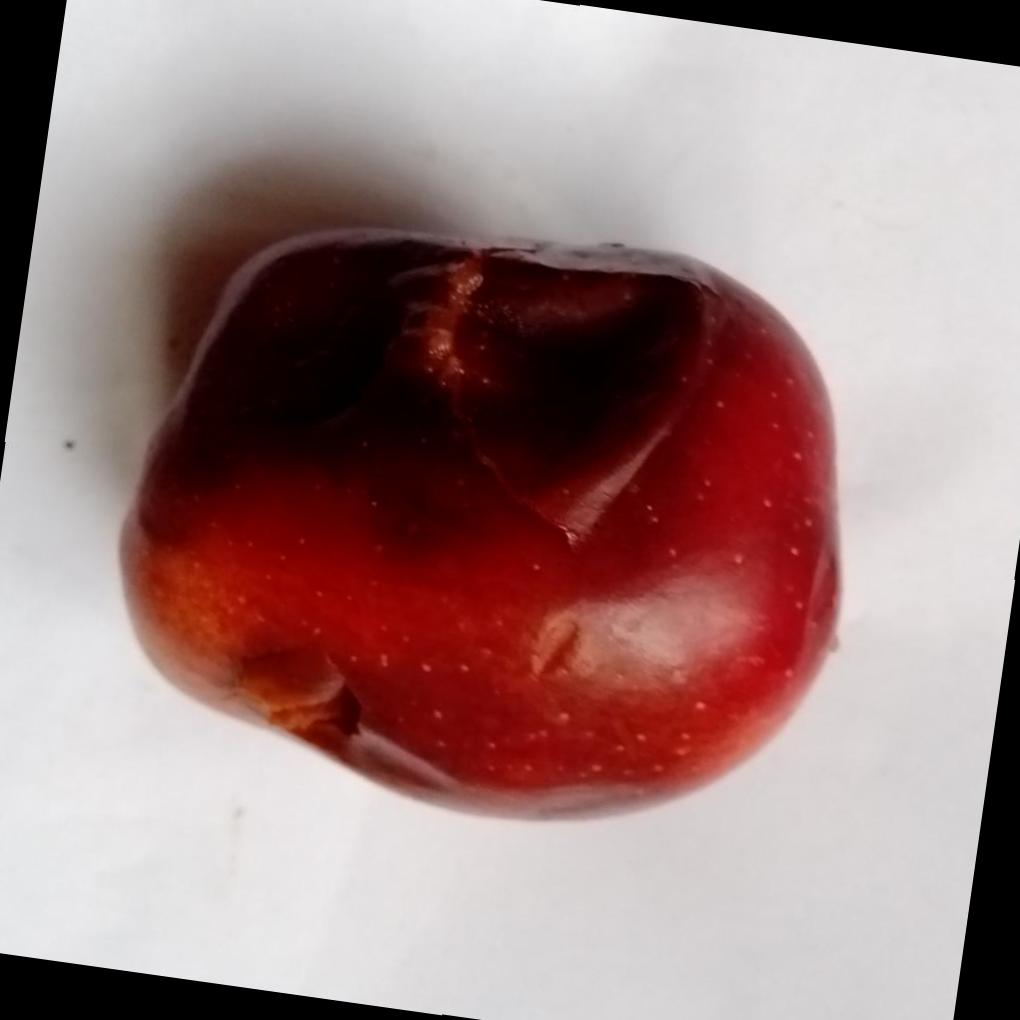FreshOrange: (115, 227, 845, 826)
